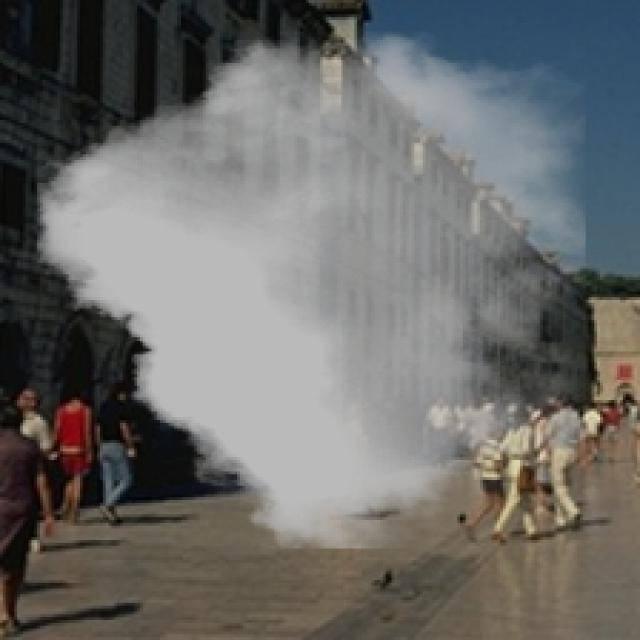Smoke: (37, 31, 586, 548)
